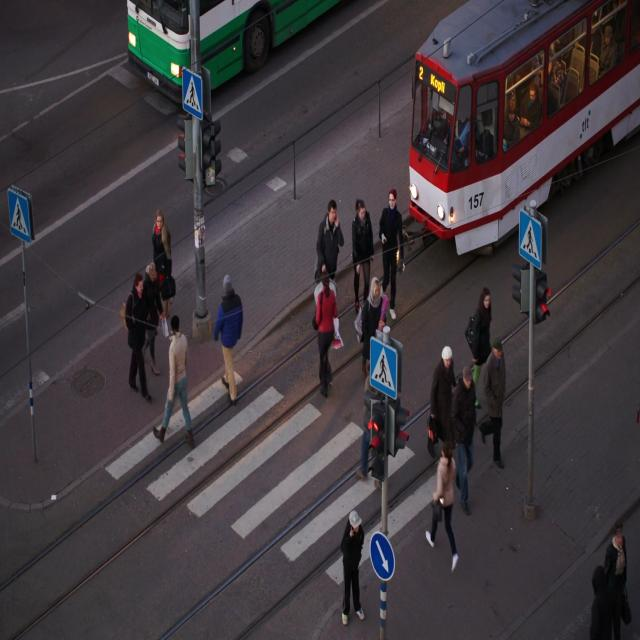pedestrian: (433, 367, 475, 571), (154, 333, 194, 446), (312, 276, 337, 396), (482, 340, 505, 468), (214, 277, 242, 350), (225, 359, 236, 402)
